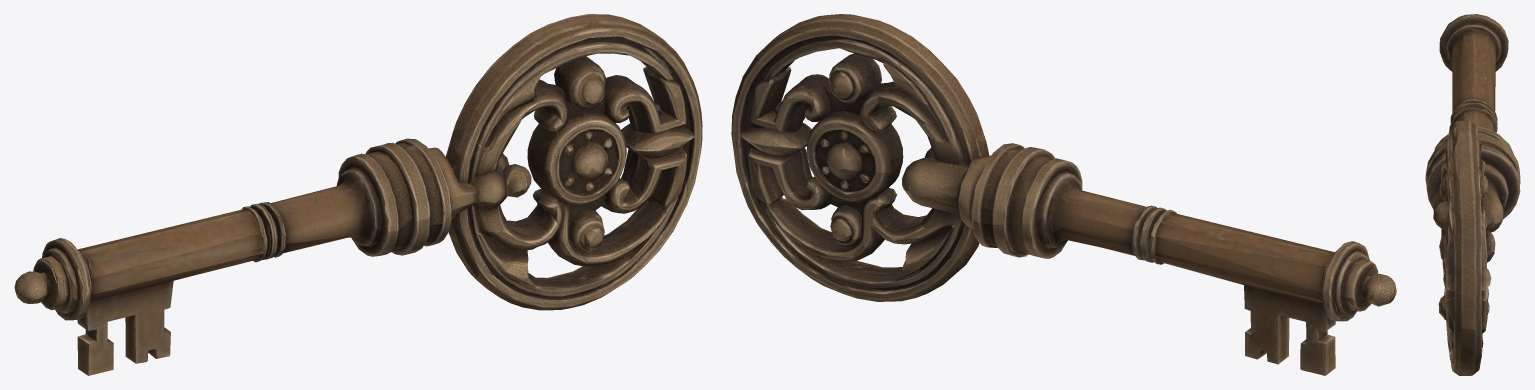
Rendered from key.glb.
The picture shows the model from 3 angles, left to right: view 1: azimuth 30°, elevation 25°; view 2: azimuth 150°, elevation 25°; view 3: azimuth 270°, elevation 25°; orthographic projection. The views are drawn at different scales.
Size of the model in its own units: 1.9 by 0.7606 by 0.2797.
1 material, 1 textured.
